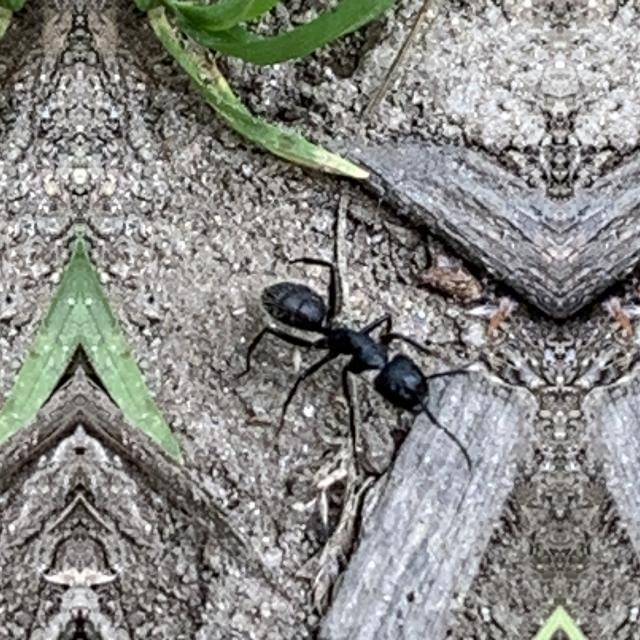Camponotus: (212, 233, 516, 462)
